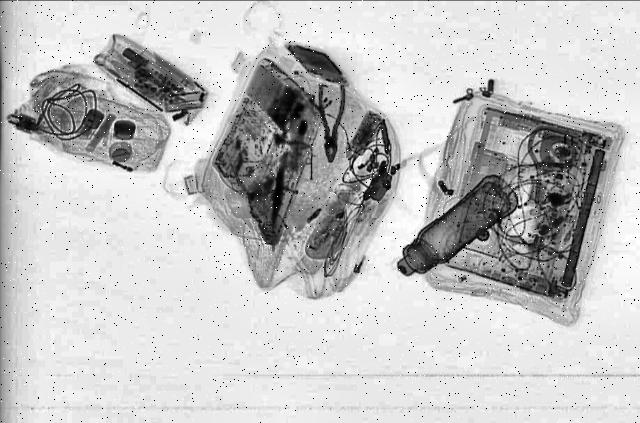Pliers: (317, 86, 345, 164)
